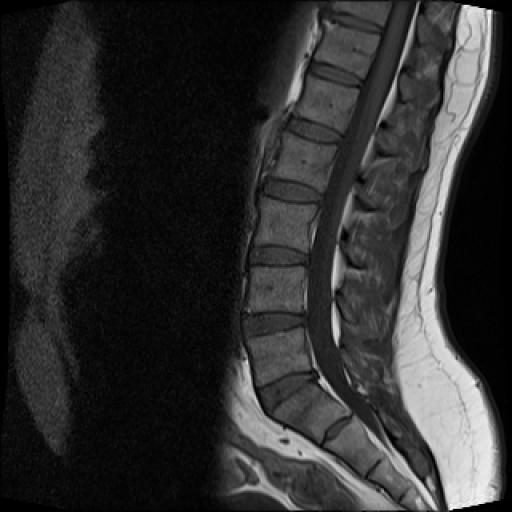L1: (295, 71, 359, 133)
L2: (272, 131, 337, 190)
L3: (254, 195, 318, 252)
L4: (250, 267, 304, 312)
L5: (246, 327, 312, 386)
S1: (272, 381, 350, 444)
